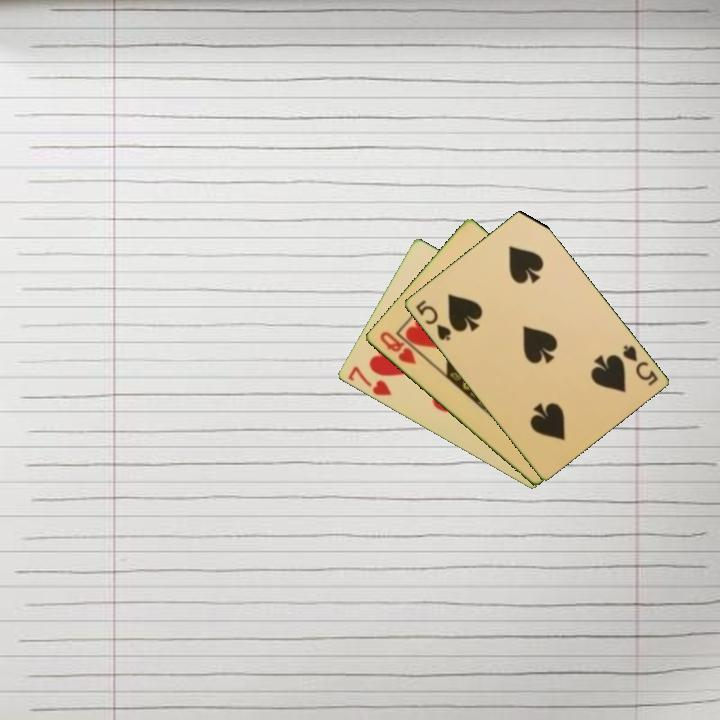5s: (412, 296, 454, 344), (619, 341, 661, 389)
7h: (344, 362, 394, 399)
Qh: (376, 328, 419, 368)
